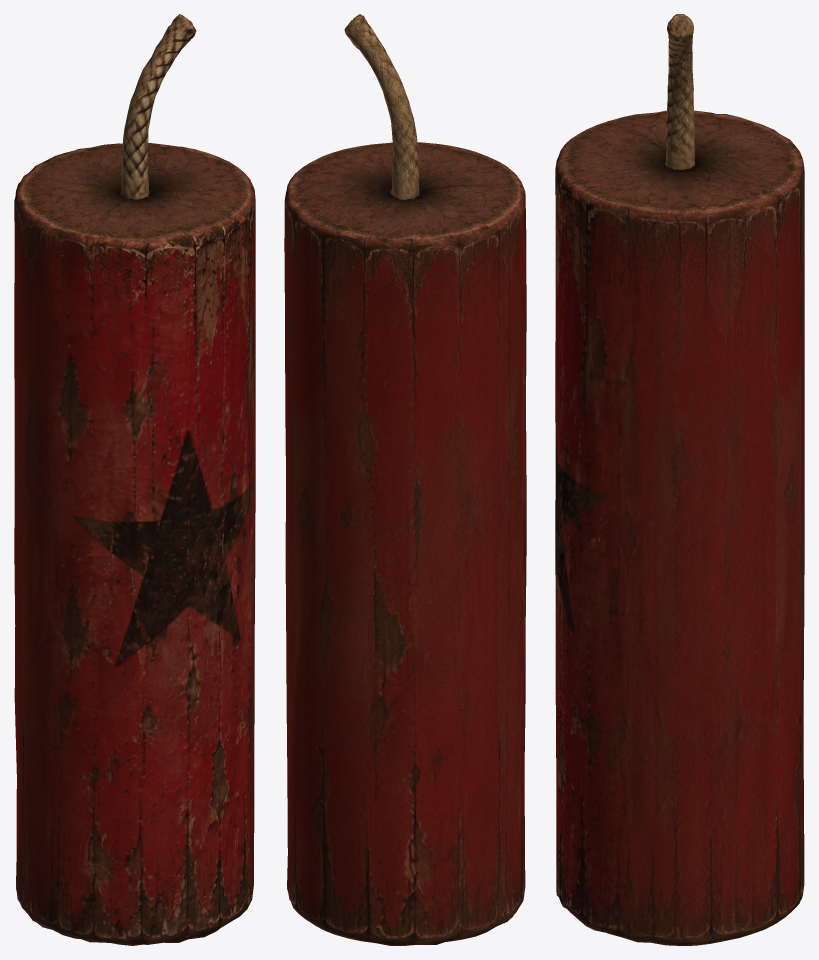
File: Dynamite.fbx
The picture shows the model from 3 angles, left to right: view 1: azimuth 30°, elevation 25°; view 2: azimuth 150°, elevation 25°; view 3: azimuth 270°, elevation 25°; orthographic projection. The views are drawn at different scales.
Parts seen in each view (by area): view 1: mesh_node; view 2: mesh_node; view 3: mesh_node.
Boxes of the visible parts, bbox=[...] form: mesh_node: bbox=[14, 14, 255, 945]; mesh_node: bbox=[284, 14, 526, 945]; mesh_node: bbox=[555, 14, 804, 945].
Size of the model in its own units: 25.2 by 100 by 24.95.
1 material, 1 textured.
